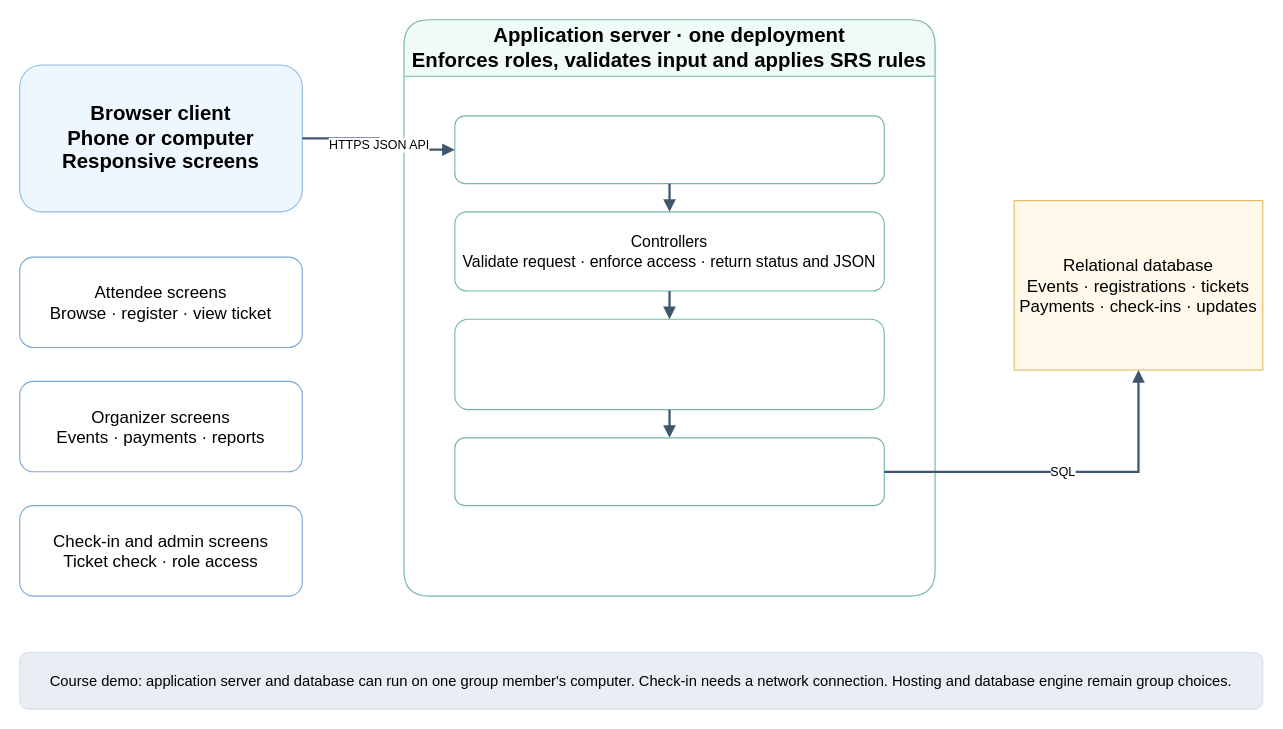
Image size: 1283x729. Some labels were removed from this diagram. Each missing label, with the centre of its shape:
"Repositories Database queries and record mapping" goes at pixel 669 471.
"Routes Map HTTP method and URL to controller" goes at pixel 669 149.
"Services Event · registration · check-in · payment · report rules" goes at pixel 669 364.
